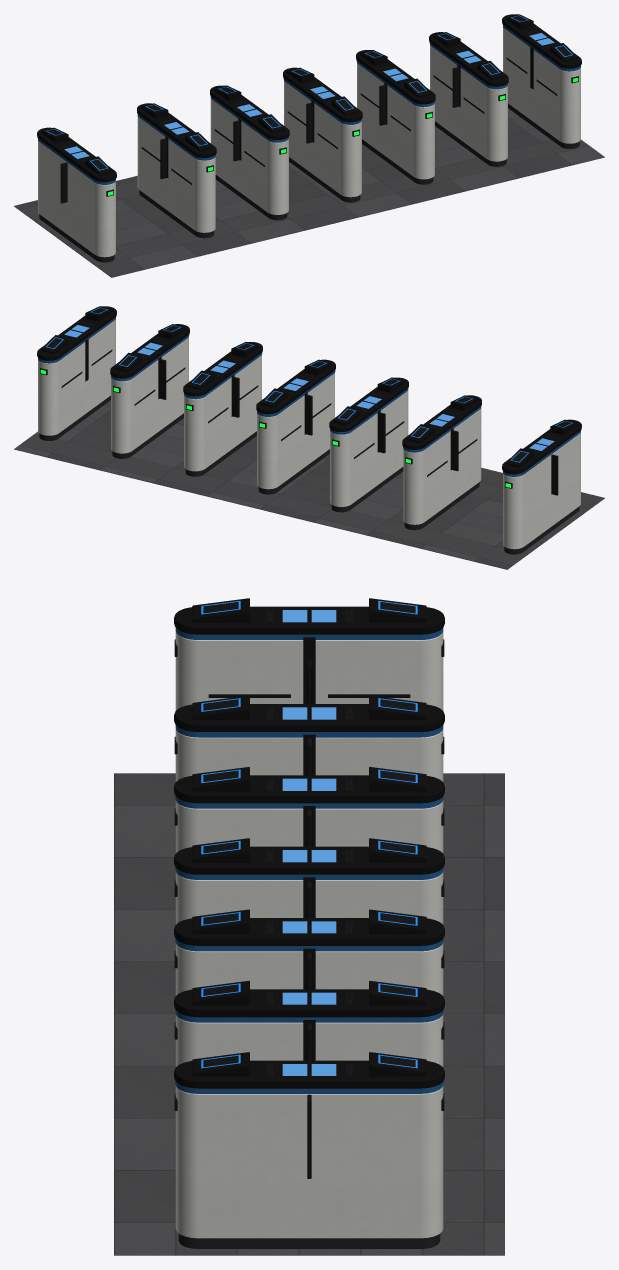
The model's file is gteki_gate_array_6w1.glb.
The picture shows the model from 3 angles, top to bottom: view 1: azimuth 30°, elevation 25°; view 2: azimuth 150°, elevation 25°; view 3: azimuth 270°, elevation 25°; orthographic projection. The views are drawn at different scales.
Visible parts, largest first — view 1: VIS_cabinets, VIS_floor; view 2: VIS_cabinets, VIS_floor; view 3: VIS_cabinets, VIS_floor.
Part boxes in pixels (box(x1,y1,x2,y2)): VIS_cabinets: box(37, 14, 581, 262); VIS_floor: box(14, 108, 604, 277); VIS_cabinets: box(37, 306, 581, 554); VIS_floor: box(14, 400, 604, 569); VIS_cabinets: box(174, 598, 444, 1248); VIS_floor: box(114, 773, 504, 1255).
Size of what is drawn, in the model's own units: 5.58 by 0.9846 by 1.9.
Materials: 11 (3 with a texture image).
